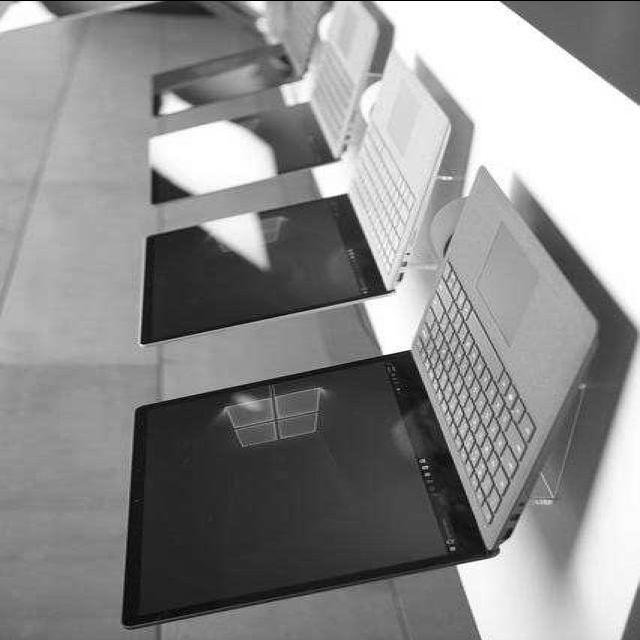laptop: (120, 179, 618, 607), (134, 70, 466, 350), (144, 0, 379, 209)
